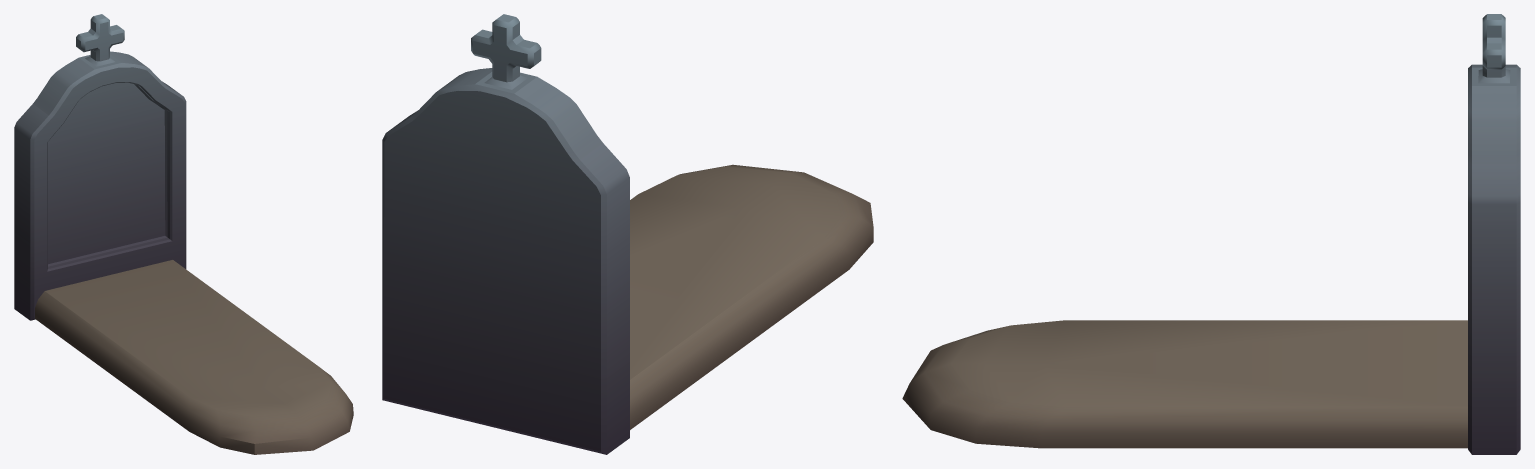
The model's file is GStone2.fbx.
3 renders of one model, left to right at view 1: azimuth 30°, elevation 25°; view 2: azimuth 150°, elevation 25°; view 3: azimuth 270°, elevation 25°, orthographic. The views are drawn at different scales.
Parts seen in each view (by area): view 1: GStone2; view 2: GStone2; view 3: GStone2.
Part boxes in pixels (x1=…): GStone2: x1=14, y1=14, x2=353, y2=454; GStone2: x1=382, y1=14, x2=873, y2=454; GStone2: x1=902, y1=14, x2=1520, y2=454.
Bounding box in the file's own units: 200 × 341 × 496.
1 material, 1 textured.
